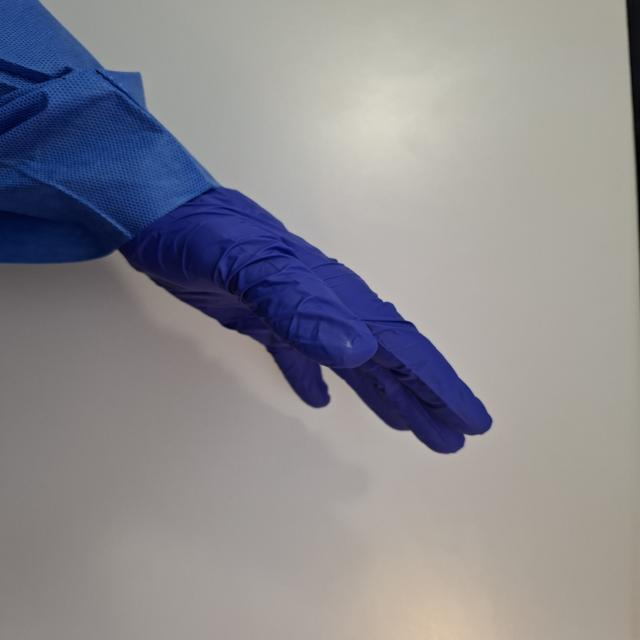glove_on: (114, 178, 497, 458)
